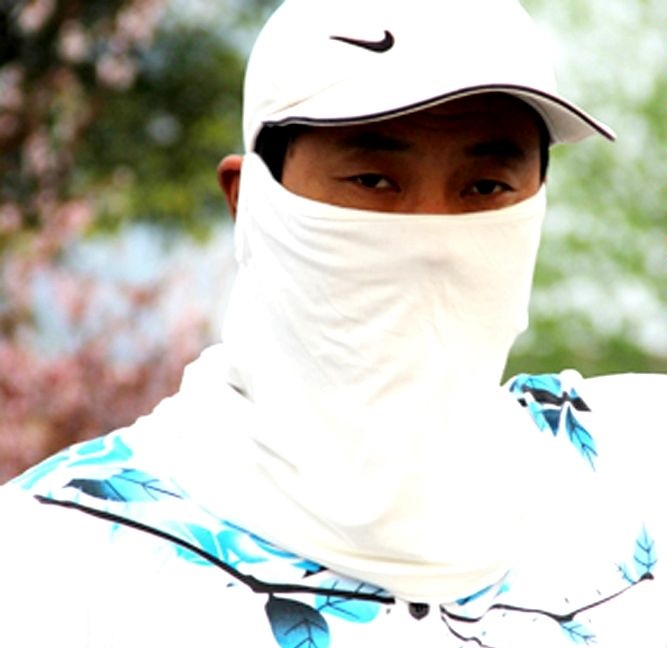face_mask: (261, 71, 538, 405)
